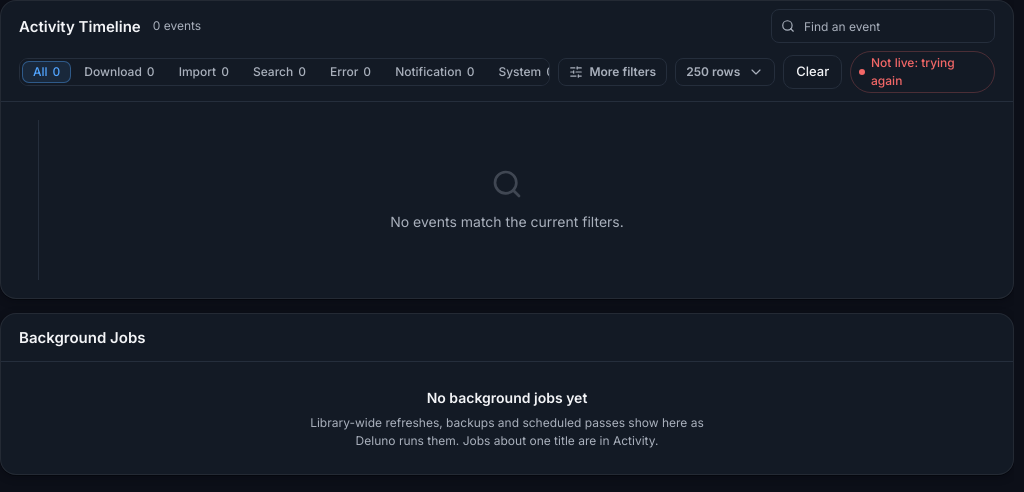
Test: Activity timeline page size (#871) › offers exactly 50, 100, 250, 500 and 1000 rows
Click the dropdown named "Rows shown".
click(725, 72)  # box [675,58,775,86]
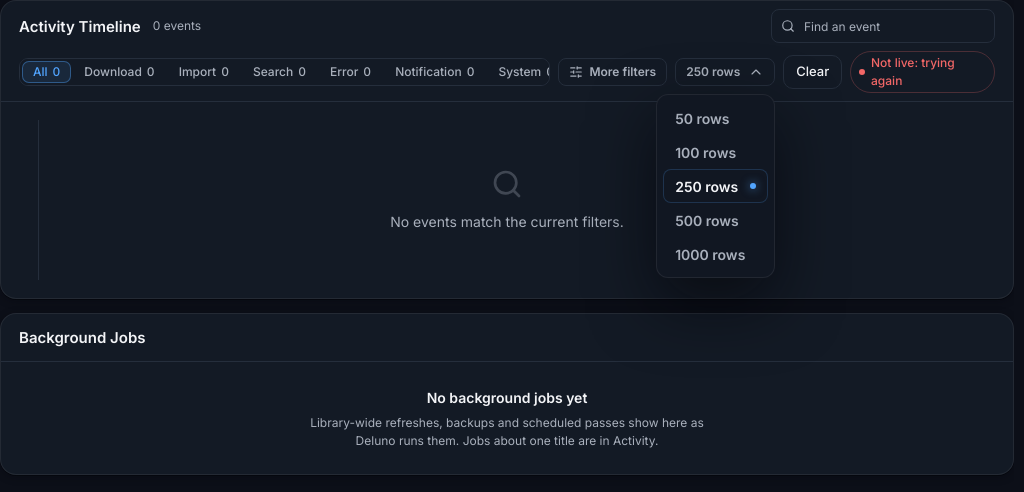
Expected: the options read "50 rows", "100 rows", "250 rows", "500 rows", "1000 rows", in this order, [663,101,768,135]; [663,135,768,169]; [663,169,768,203]; [663,203,768,237]; [663,237,768,271]
